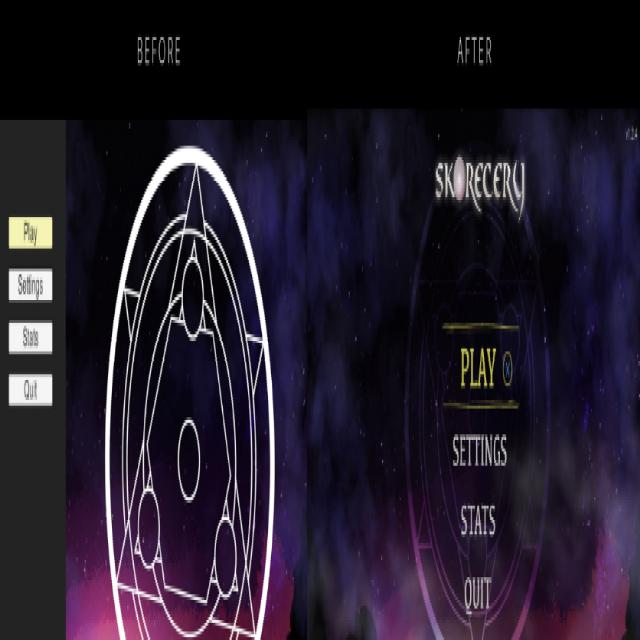Start-button: (444, 326, 522, 417)
